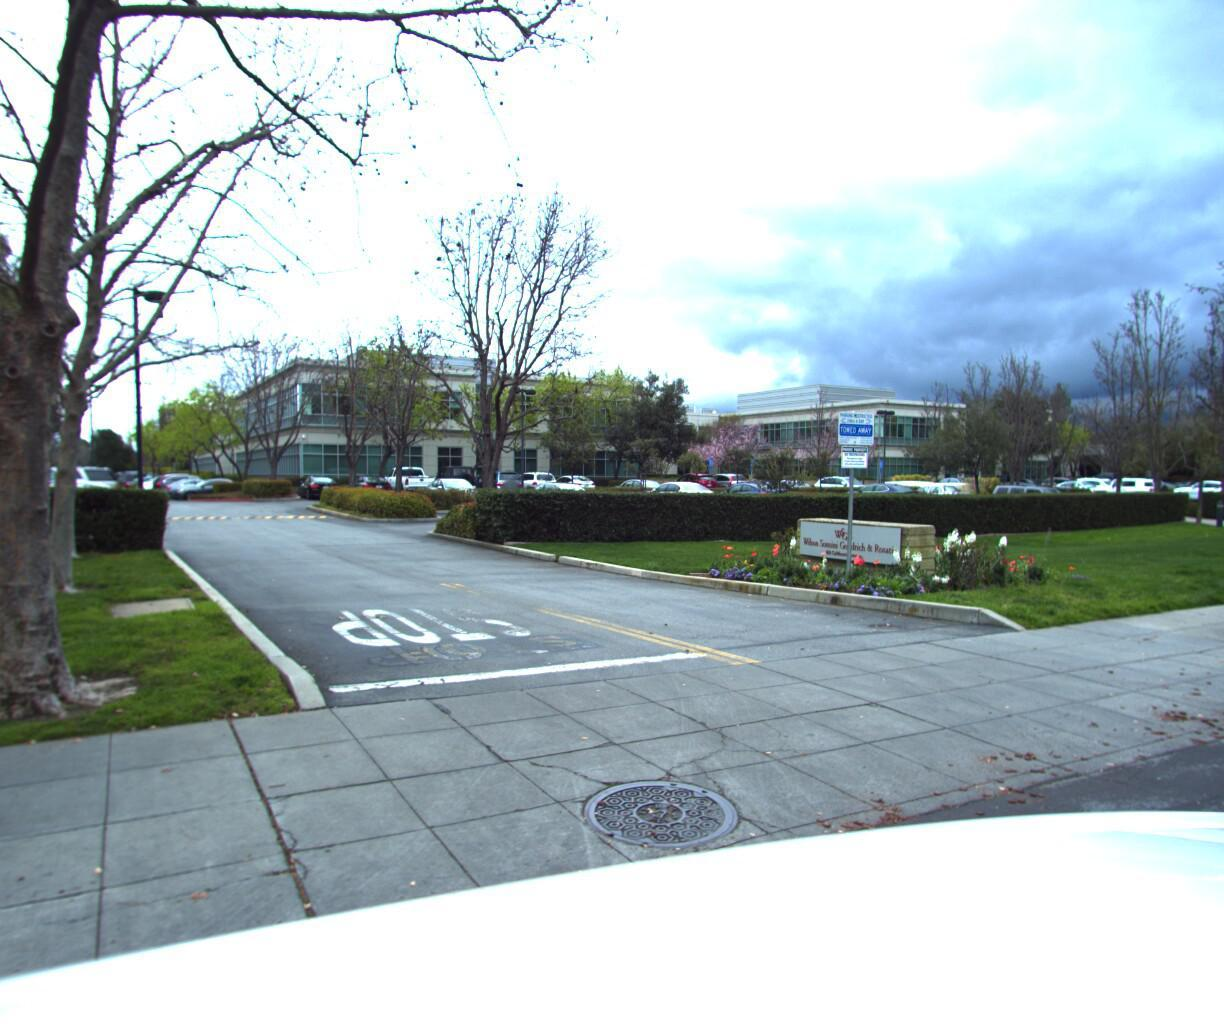bicycle: (1194, 491, 1224, 649)
